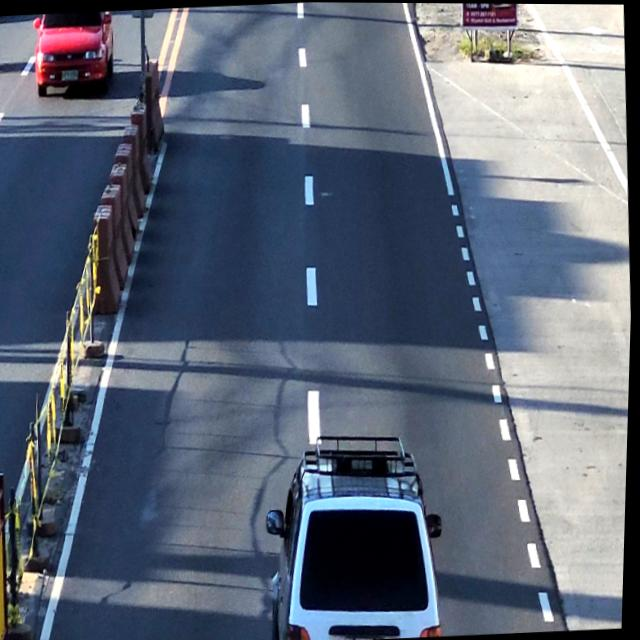Car: (273, 439, 450, 640)
